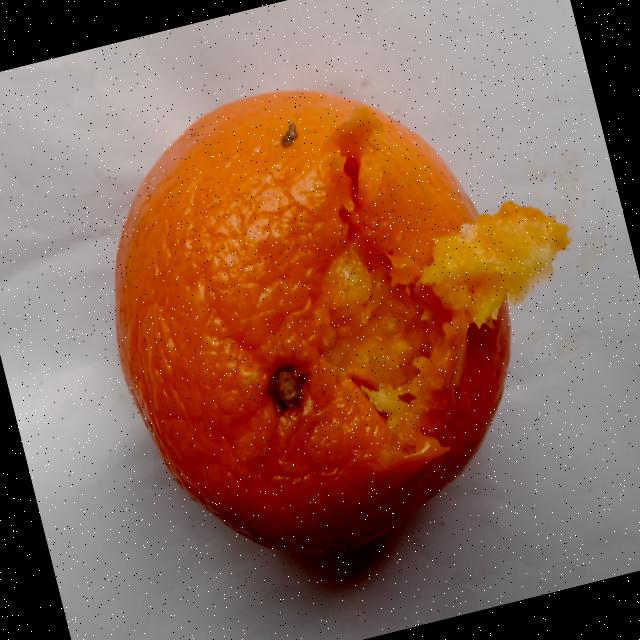Rotten: (60, 19, 638, 600)
